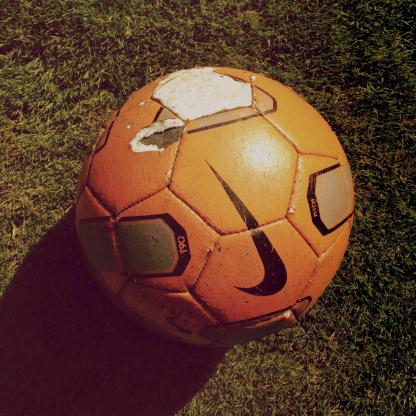Ball: (74, 66, 356, 350)
